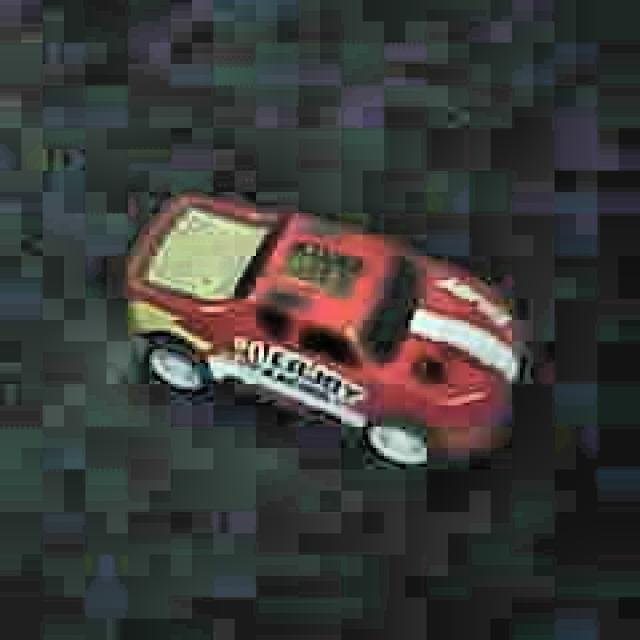car: (119, 186, 526, 470)
